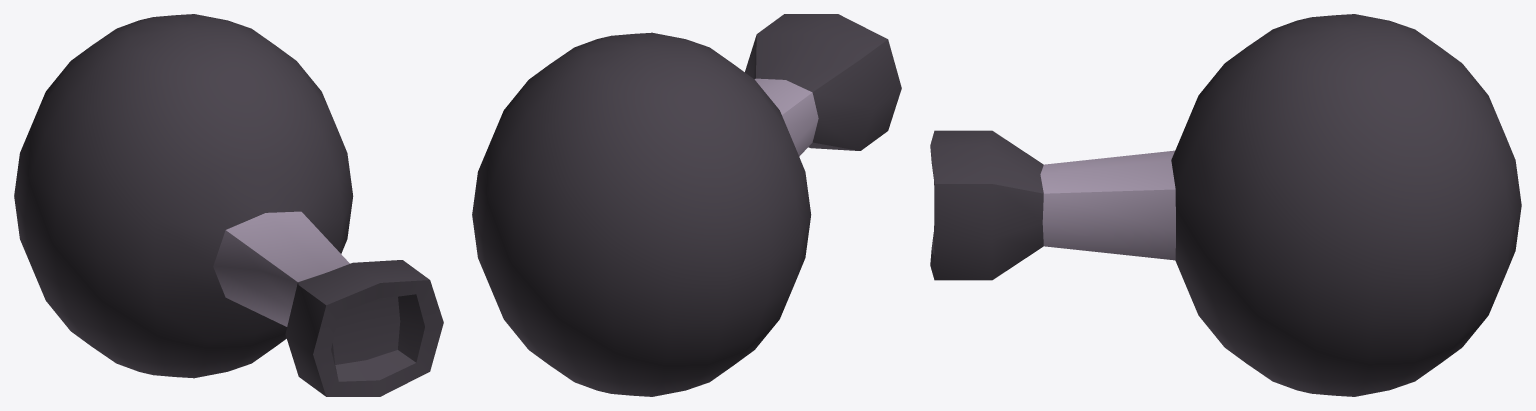
The model's file is pistola.fbx.
The picture shows the model from 3 angles, left to right: view 1: azimuth 30°, elevation 25°; view 2: azimuth 150°, elevation 25°; view 3: azimuth 270°, elevation 25°; orthographic projection. The views are drawn at different scales.
Parts seen in each view (by area): view 1: pistola; view 2: pistola; view 3: pistola.
Boxes of the visible parts, x1,y1,x2,y2 form: pistola: (14,14,443,396); pistola: (472,14,901,396); pistola: (930,14,1521,396).
Size of the model in its own units: 17.66 by 19.45 by 29.74.
1 material, 1 textured.
